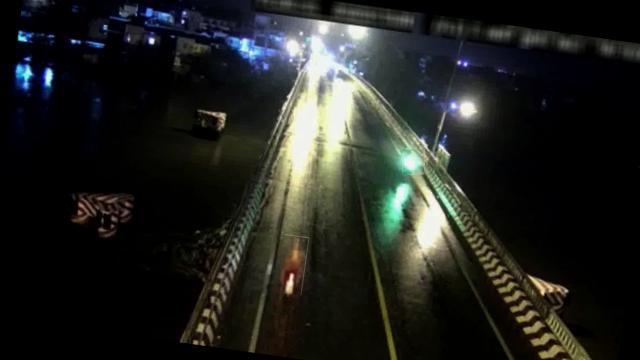Bike: (276, 234, 308, 296), (398, 146, 426, 176)
